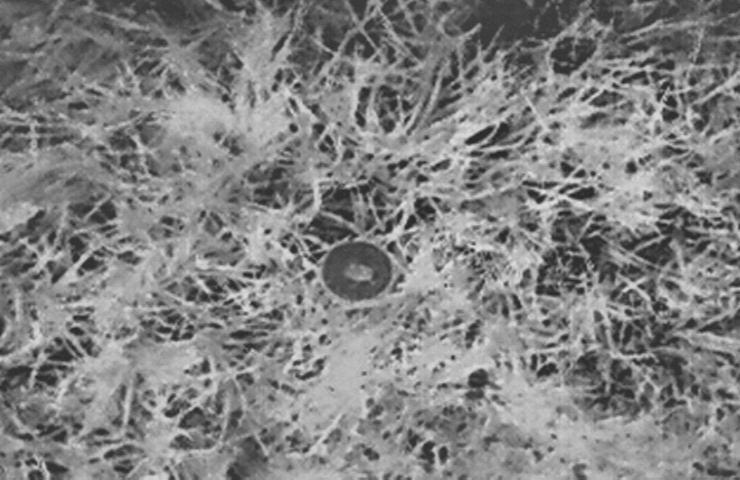landmines: (314, 235, 402, 306)
